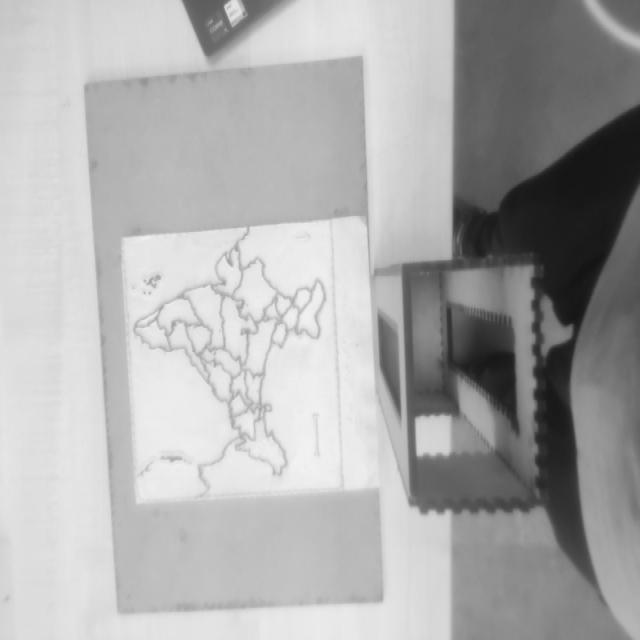map: (122, 220, 345, 502)
